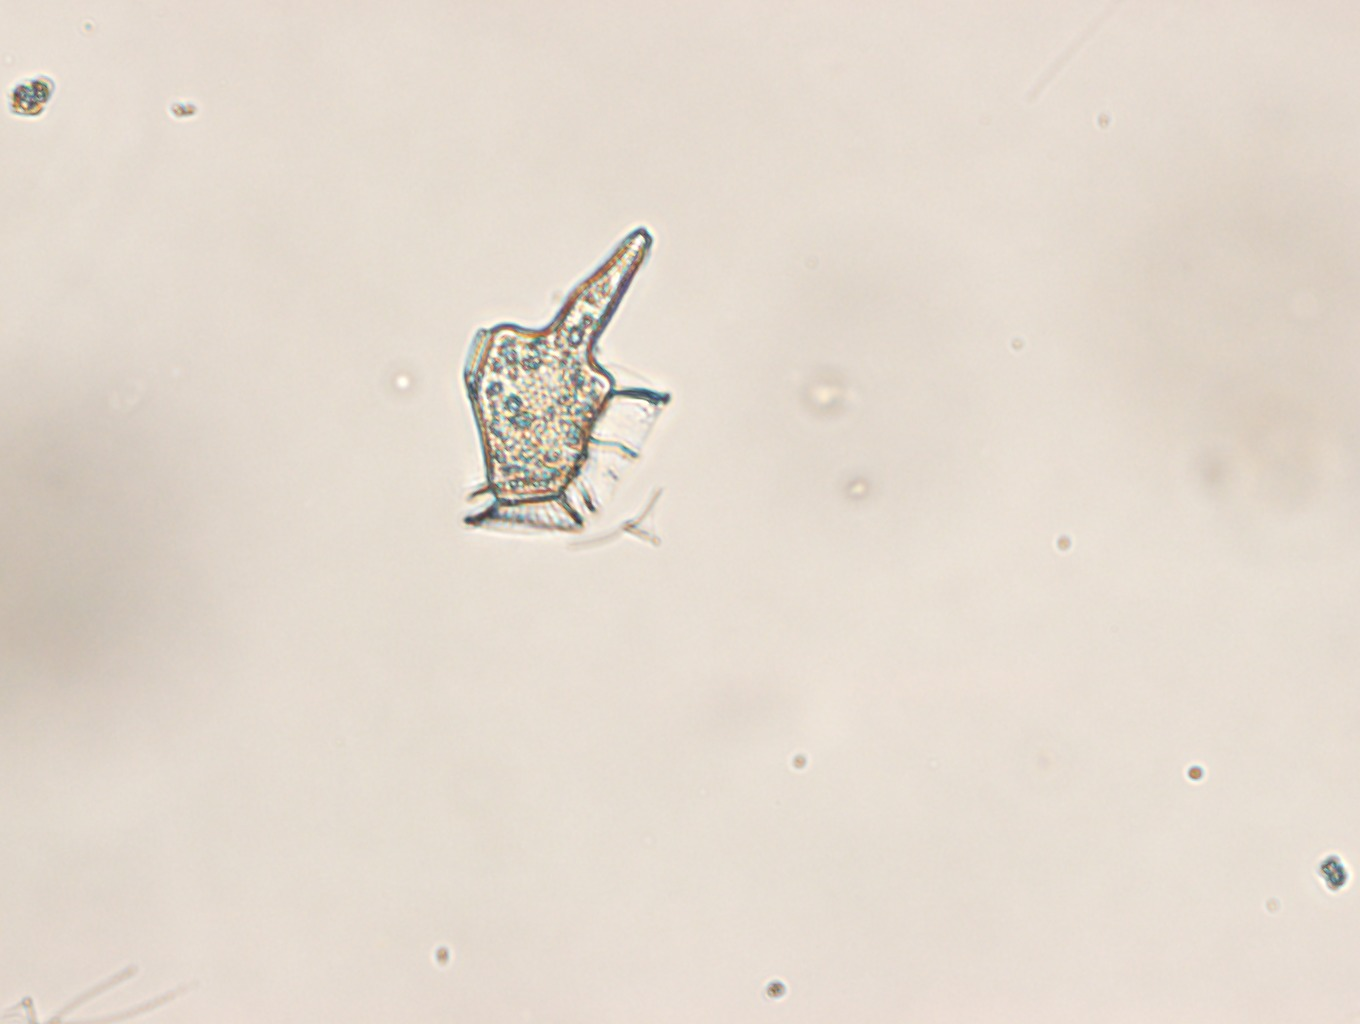dinophysis caudata: (463, 224, 672, 540)
